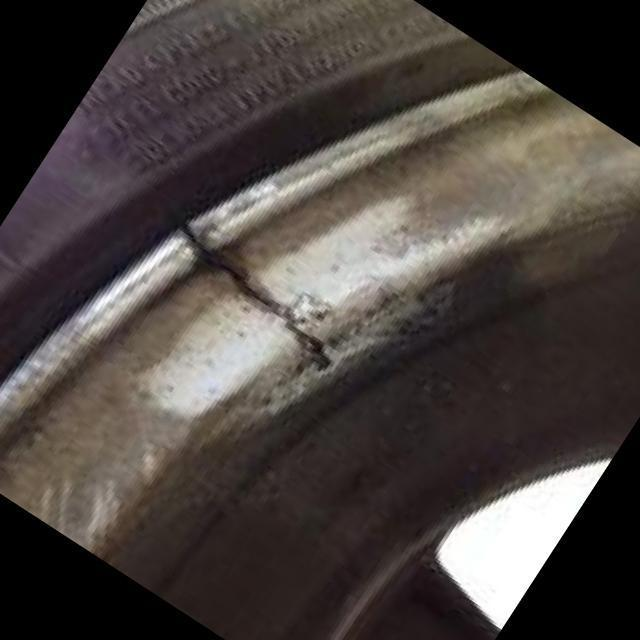defect: (166, 217, 340, 372)
